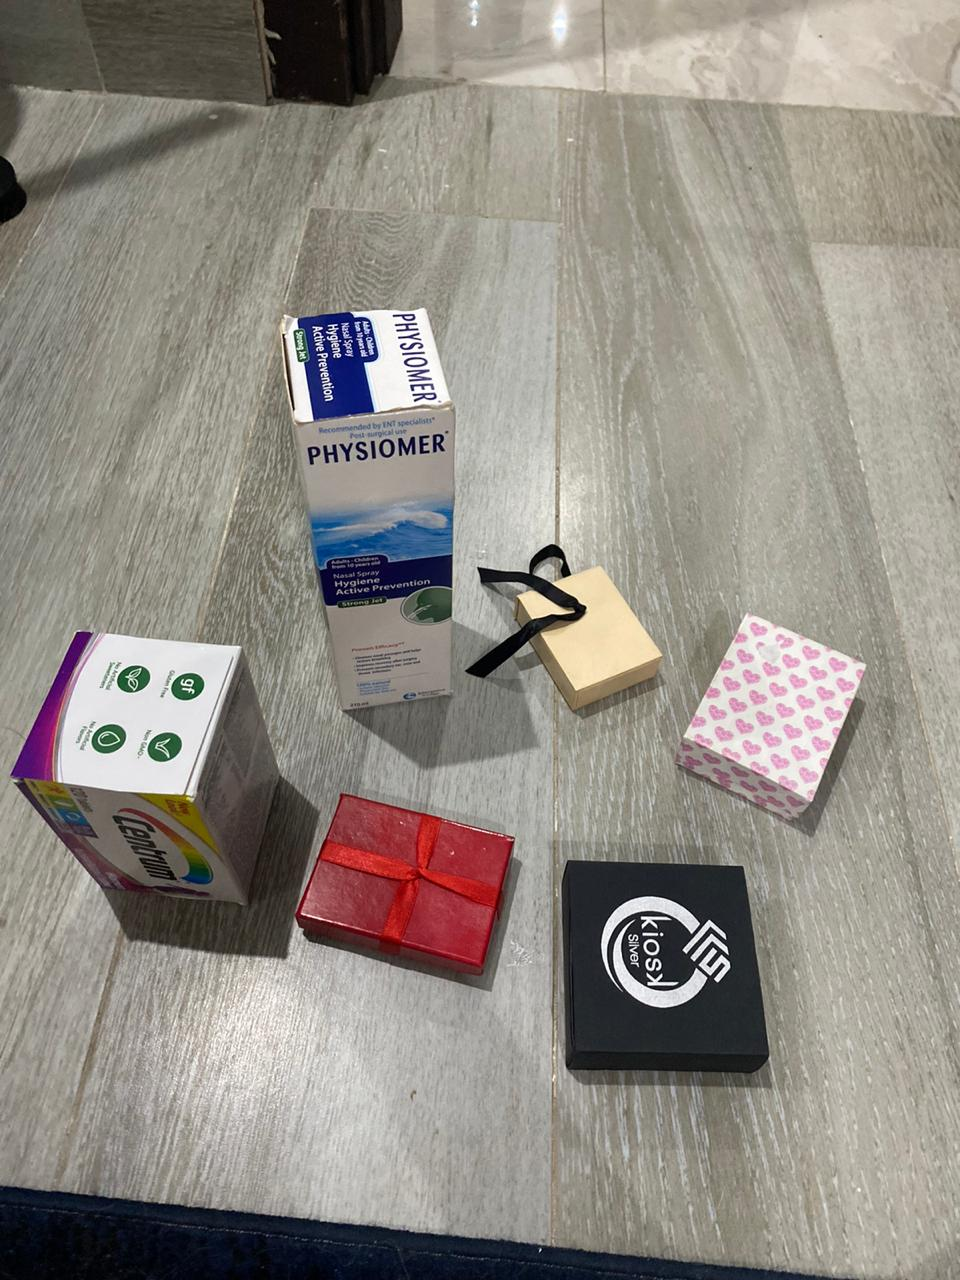Black Box: (298, 793, 523, 990)
Centrum: (11, 627, 282, 909)
Physiomer: (275, 311, 464, 713)
Pink Box: (682, 616, 873, 827)
Red Box: (559, 861, 773, 1072)
Yellow Box: (514, 563, 669, 714)
